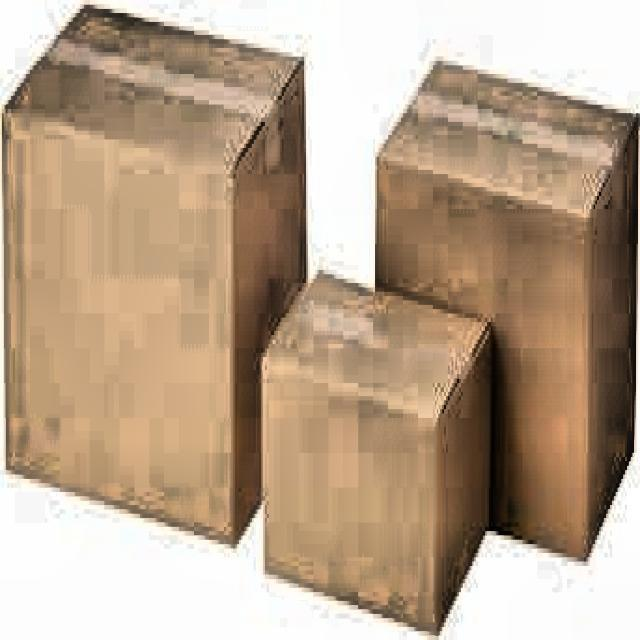cardboard: (0, 0, 308, 544), (373, 52, 638, 562), (260, 266, 492, 632)
